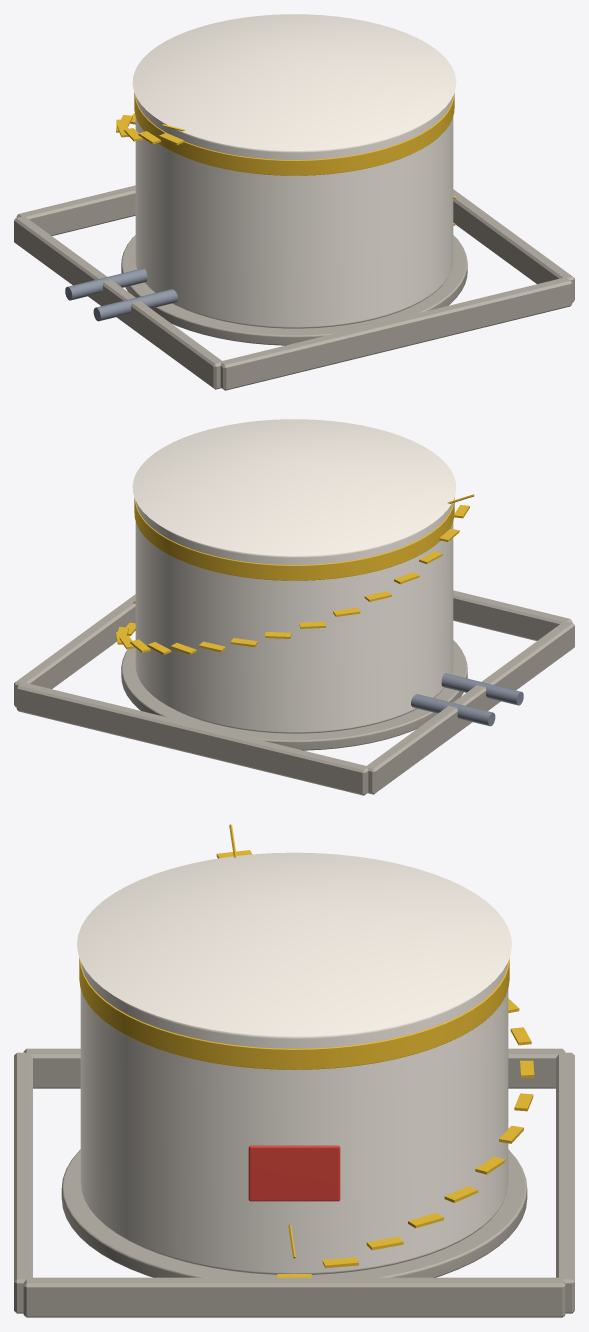
File: fuel_tank.glb
3 renders of one model, top to bottom at view 1: azimuth 30°, elevation 25°; view 2: azimuth 150°, elevation 25°; view 3: azimuth 270°, elevation 25°, orthographic. The views are drawn at different scales.
Parts seen in each view (by area): view 1: fuel_tank; view 2: fuel_tank; view 3: fuel_tank.
Boxes of the visible parts, x1=… form: fuel_tank: x1=14, y1=14, x2=574, y2=390; fuel_tank: x1=14, y1=419, x2=574, y2=795; fuel_tank: x1=14, y1=824, x2=574, y2=1317.
Size of the model in its own units: 15.95 by 8.5 by 14.7.
Materials: 1 (1 with a texture image).
